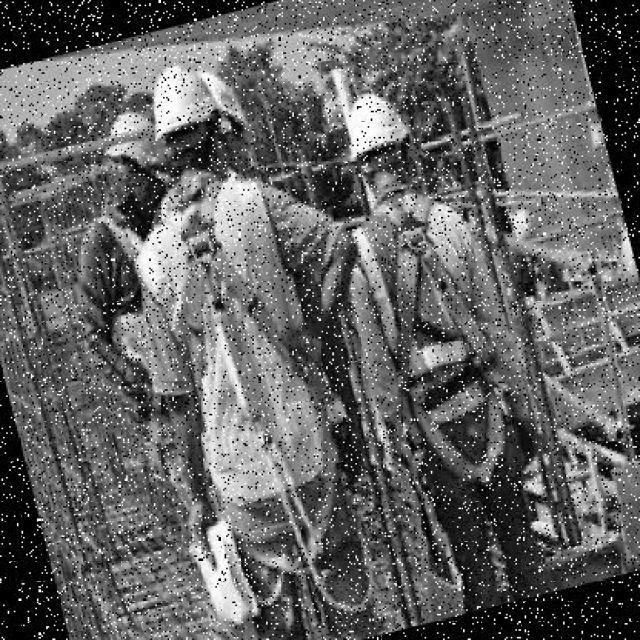Arnes_seguridad: (133, 155, 367, 588), (344, 180, 538, 506)
